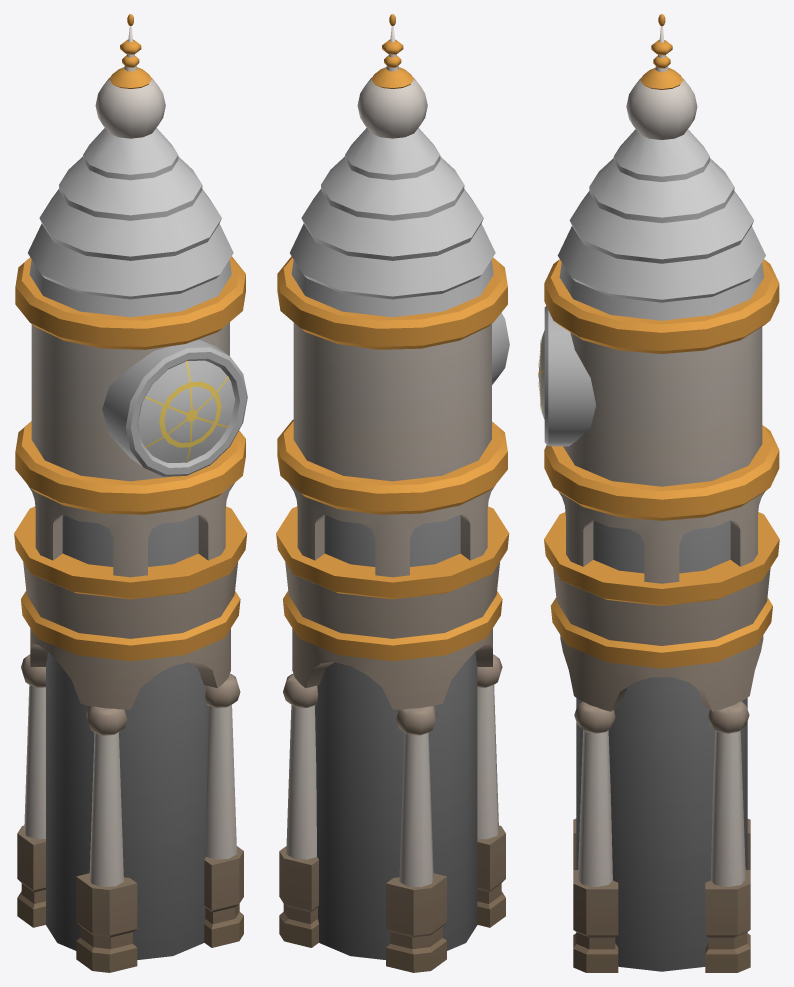
File: building_001.fbx
3 views of the same model, side by side, from view 1: azimuth 30°, elevation 25°; view 2: azimuth 150°, elevation 25°; view 3: azimuth 270°, elevation 25° (orthographic).
Parts seen in each view (by area): view 1: building_001; view 2: building_001; view 3: building_001.
Part boxes in pixels (left/top/right/bottom): building_001: left=14, top=14, right=247, bottom=972; building_001: left=276, top=14, right=509, bottom=972; building_001: left=538, top=14, right=779, bottom=972.
Size of the model in its own units: 1080 by 1106 by 4655.
